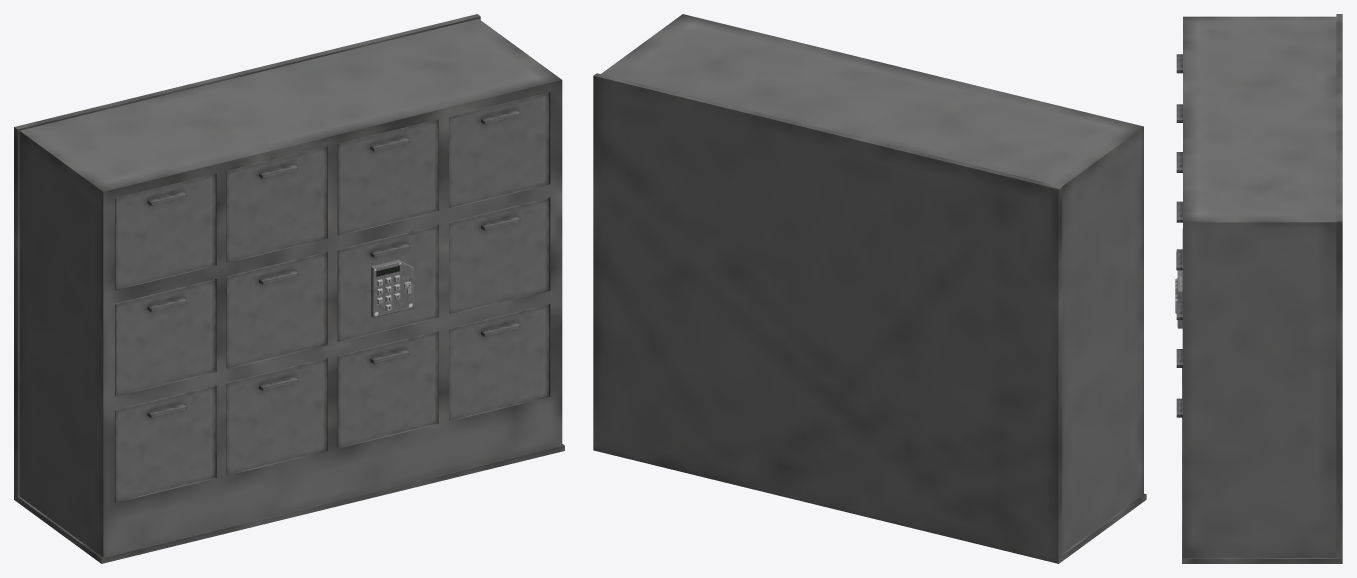
Rendered from locker.fbx.
The picture shows the model from 3 angles, left to right: view 1: azimuth 30°, elevation 25°; view 2: azimuth 150°, elevation 25°; view 3: azimuth 270°, elevation 25°; orthographic projection. The views are drawn at different scales.
Visible parts, largest first — view 1: SheetRack.011, SheetRackCase_7.001, Panel_low; view 2: SheetRack.011; view 3: SheetRack.011, Panel_low, SheetRackCase_7.001.
Part boxes in pixels (x1,y1,x2,y2): SheetRack.011: (14, 14, 564, 563); SheetRackCase_7.001: (337, 225, 438, 341); Panel_low: (371, 259, 413, 317); SheetRack.011: (593, 14, 1146, 563); SheetRack.011: (1176, 14, 1342, 563); Panel_low: (1177, 270, 1182, 328); SheetRackCase_7.001: (1176, 228, 1182, 356).
Bounding box in the file's own units: 203 × 156 × 69.17.
Materials: 4 (4 with a texture image).
